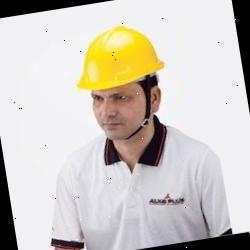helmet: (66, 20, 170, 93)
no_wear: (59, 133, 233, 250)
